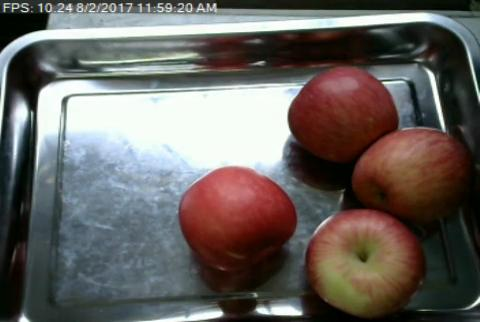apple: (305, 210, 425, 316), (179, 165, 296, 272), (351, 129, 469, 218), (288, 67, 397, 157)
